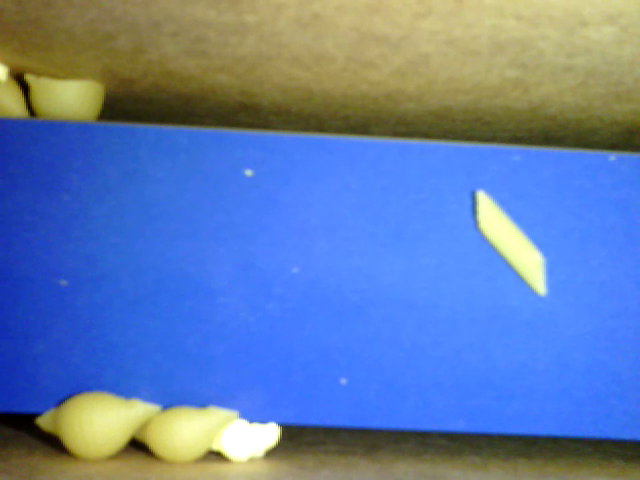penne: (473, 188, 548, 297)
shell: (33, 394, 161, 460), (132, 402, 239, 464), (24, 75, 106, 127)
